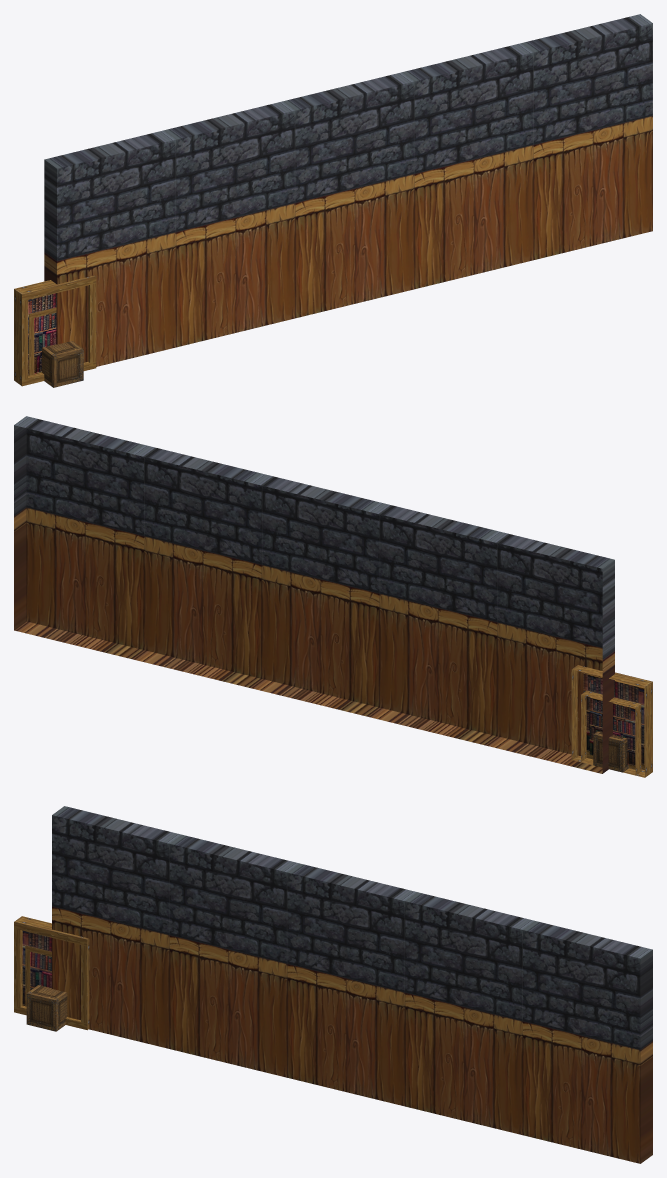
Rendered from pack_objects.fbx.
The picture shows the model from 3 angles, top to bottom: view 1: azimuth 30°, elevation 25°; view 2: azimuth 150°, elevation 25°; view 3: azimuth 330°, elevation 25°; orthographic projection.
Parts seen in each view (by area): view 1: Pared1.003, Box010, Box007; view 2: Pared1.003, Box010, Box009, Box007; view 3: Pared1.003, Box010, Box007.
Part boxes in pixels (bbox=[...]): Pared1.003: bbox=[44, 14, 652, 366]; Box010: bbox=[14, 275, 96, 386]; Box007: bbox=[42, 341, 83, 387]; Pared1.003: bbox=[14, 416, 614, 773]; Box010: bbox=[571, 665, 652, 777]; Box009: bbox=[581, 690, 641, 775]; Box007: bbox=[593, 731, 628, 772]; Pared1.003: bbox=[52, 806, 652, 1163]; Box010: bbox=[14, 916, 89, 1030]; Box007: bbox=[26, 985, 67, 1031].
Size of the model in its own units: 31.85 by 10 by 2.06.
